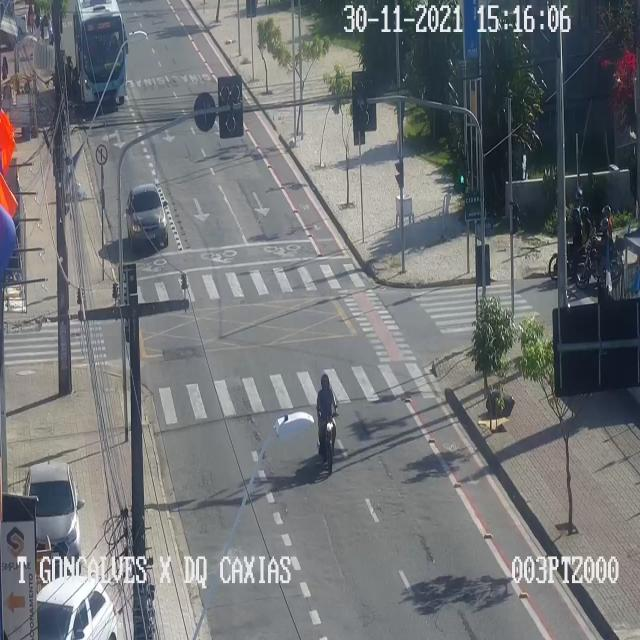Bus: (75, 0, 130, 103)
Car: (24, 463, 80, 571), (36, 575, 116, 639), (126, 183, 168, 245)
Motorcycle: (576, 204, 622, 284), (575, 218, 620, 289), (549, 207, 589, 281), (316, 373, 338, 473)
